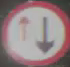Two way: (11, 7, 58, 53)
